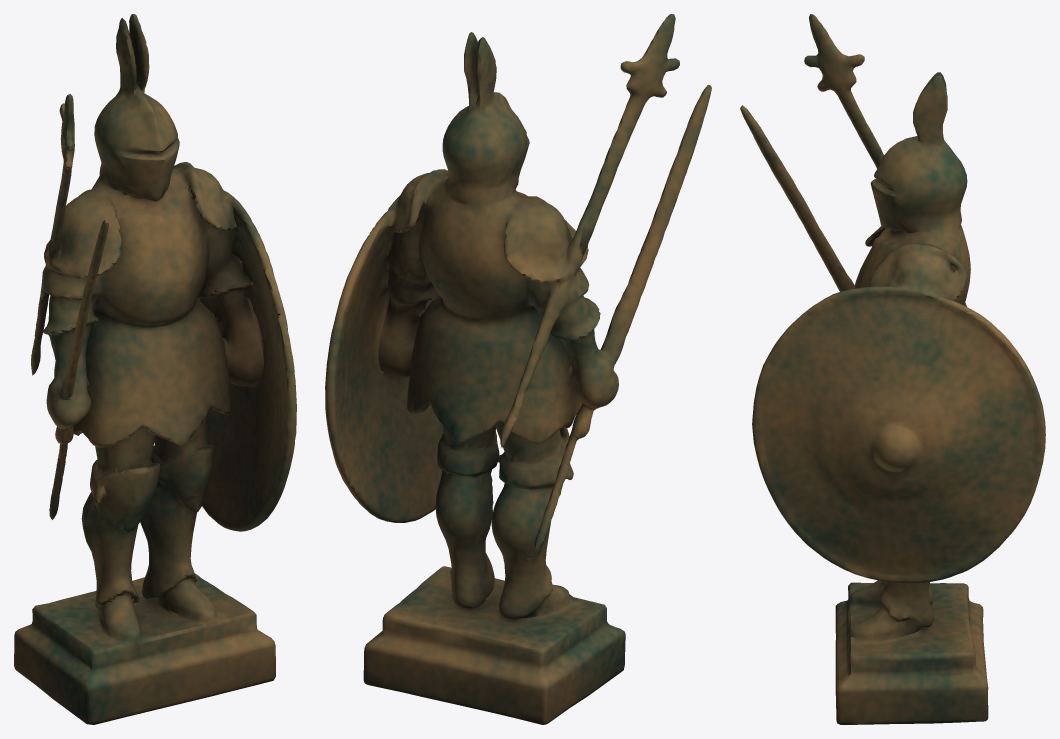
Rendered from plain-bronze-suit-of-armour.glb.
3 views of the same model, side by side, from view 1: azimuth 30°, elevation 25°; view 2: azimuth 150°, elevation 25°; view 3: azimuth 270°, elevation 25° (orthographic). The views are drawn at different scales.
Parts seen in each view (by area): view 1: plain-bronze-suit-of-armour; view 2: plain-bronze-suit-of-armour; view 3: plain-bronze-suit-of-armour.
Part boxes in pixels (bbox=[...]): plain-bronze-suit-of-armour: bbox=[14, 14, 296, 724]; plain-bronze-suit-of-armour: bbox=[325, 14, 711, 724]; plain-bronze-suit-of-armour: bbox=[740, 14, 1045, 724].
Bounding box in the file's own units: 0.8337 × 1.99 × 0.9024.
Materials: 1 (1 with a texture image).
